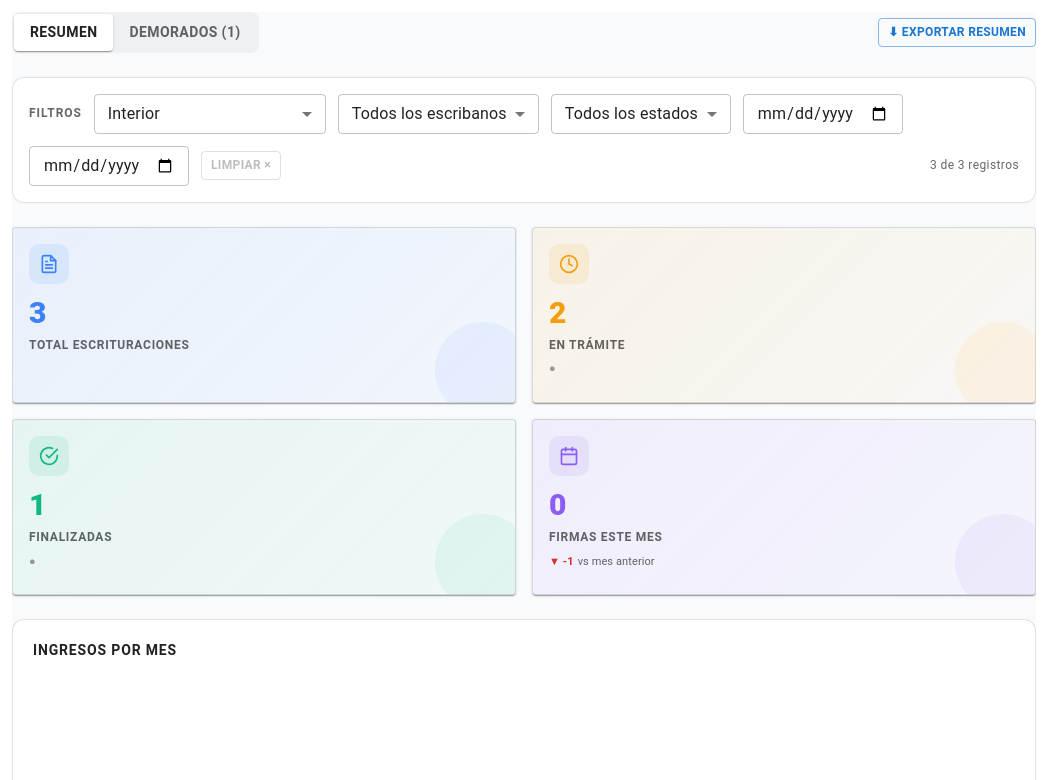
Test: DashboardTab resumen (P5a) › wires the departamento filter to useUrlState (departamento → depto param)
Step 1. Select "Interior" in the dropdown named "Departamento" → (210, 114), box [94,94,326,134]
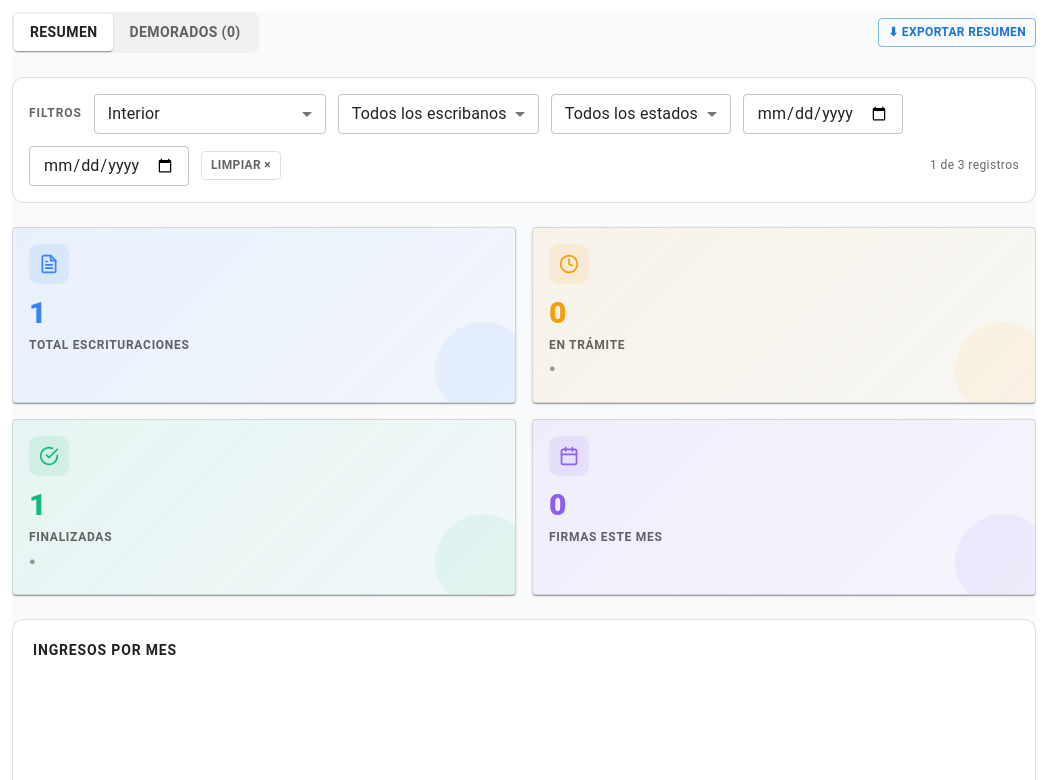
Expected: the text "1 de 3 registros" is shown, [930,156,1019,175]
